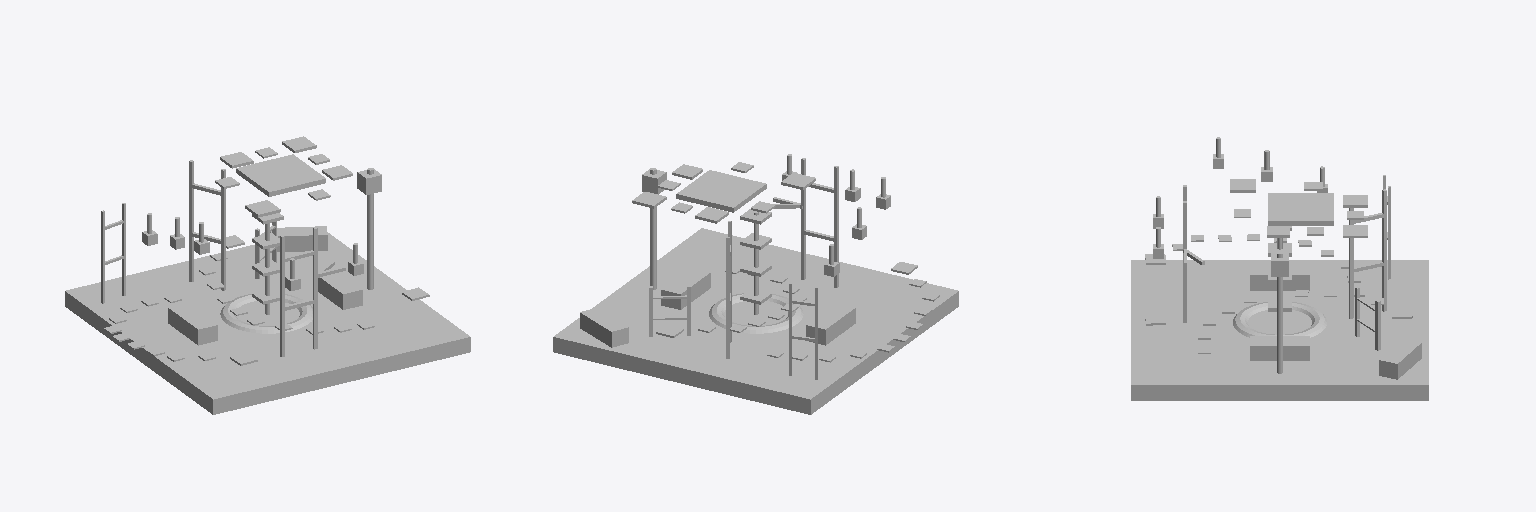
The model's file is testlevel.obj.
3 views of the same model, side by side, from view 1: azimuth 30°, elevation 25°; view 2: azimuth 150°, elevation 25°; view 3: azimuth 270°, elevation 25° (orthographic).
Bounding box in the file's own units: 8.16 × 4.23 × 7.47.